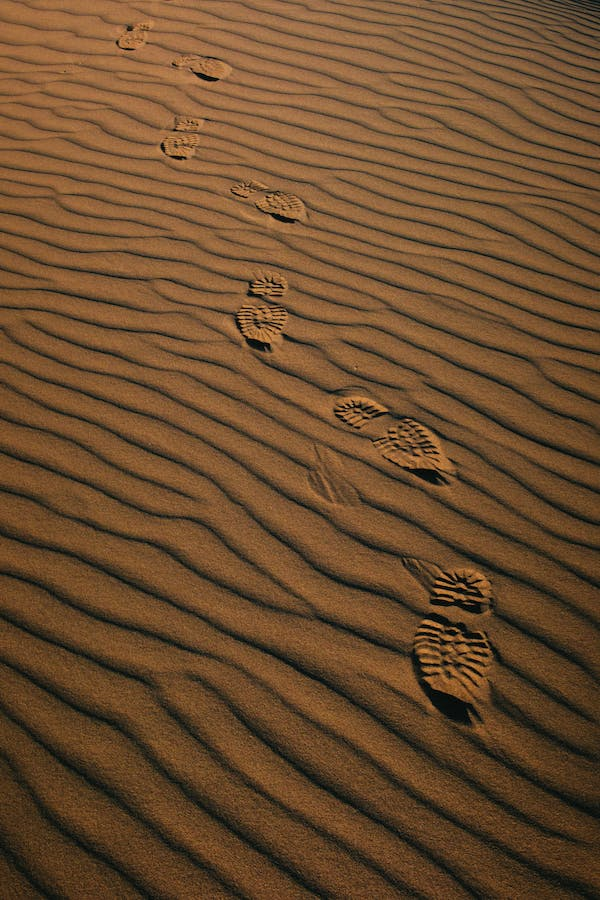human_foot_print: (207, 131, 493, 778)
